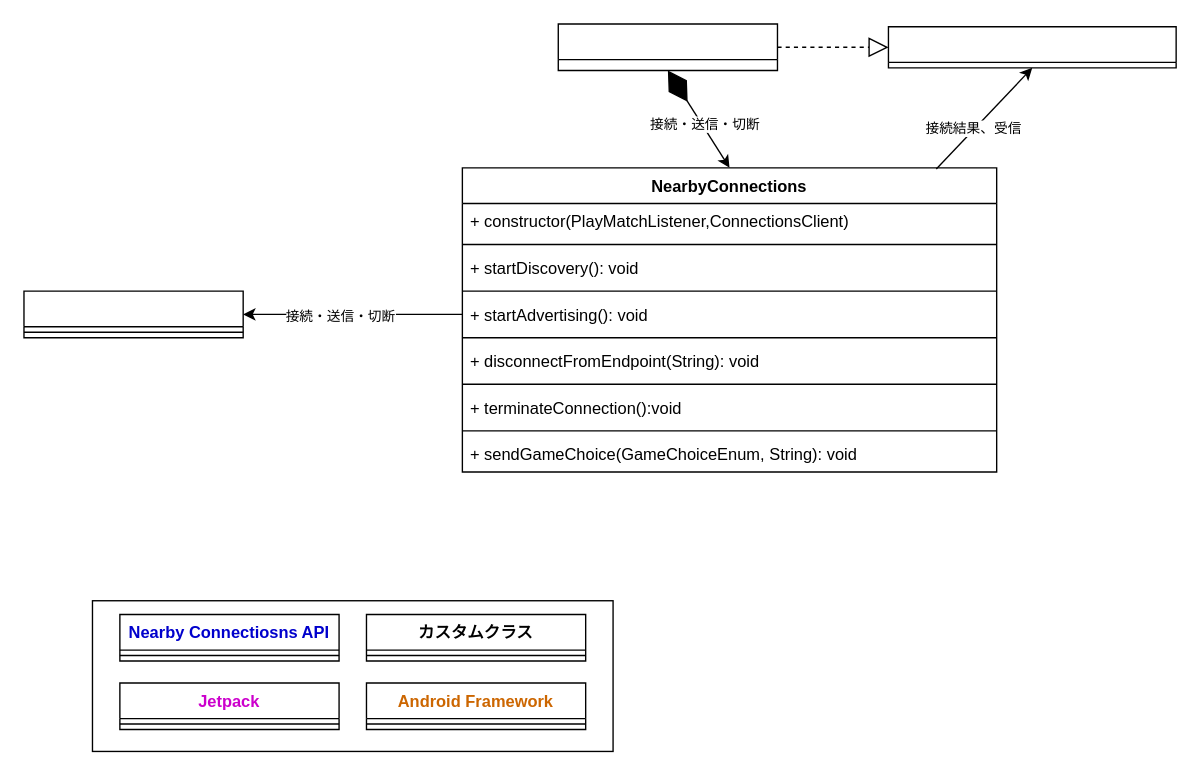
This 1200x775 diagram has some shape labels left out. Each missing label, with the centre of its shape:
ConnectionsClient: pixel 133 314
MainViewModel: pixel 667 47
PlayMatchListener: pixel 1031 46
